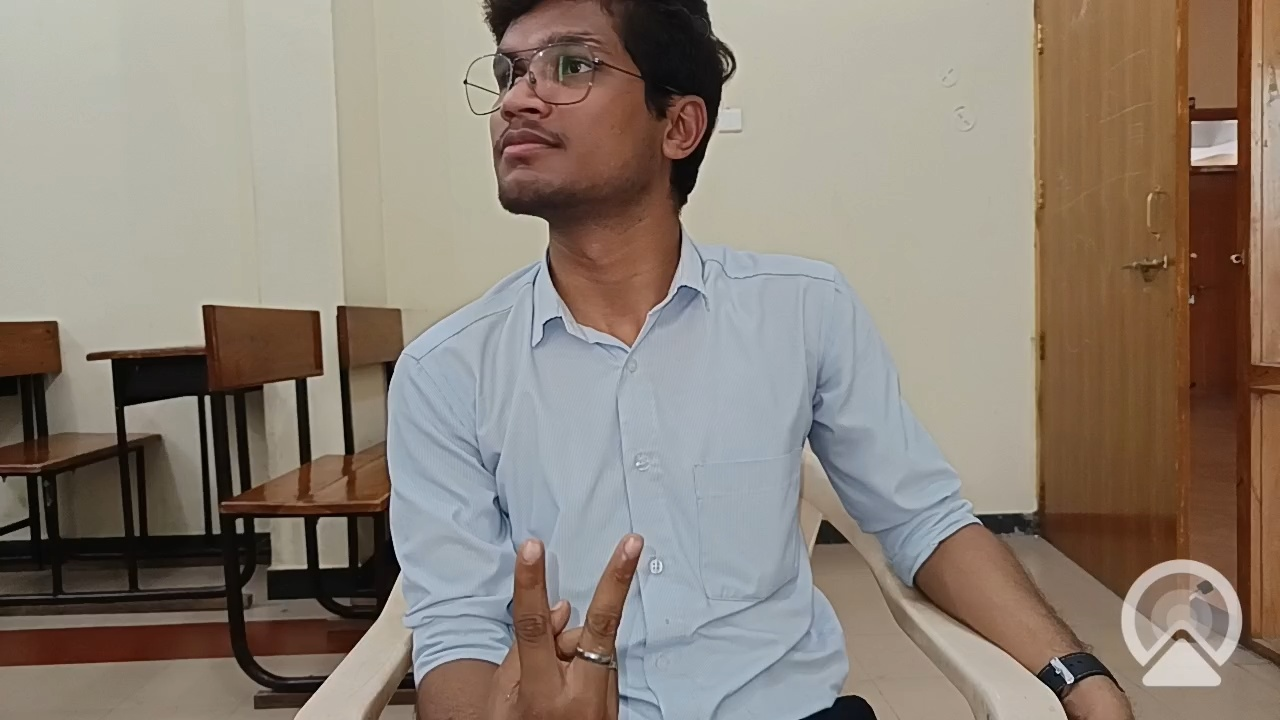V: (469, 502, 681, 720)
